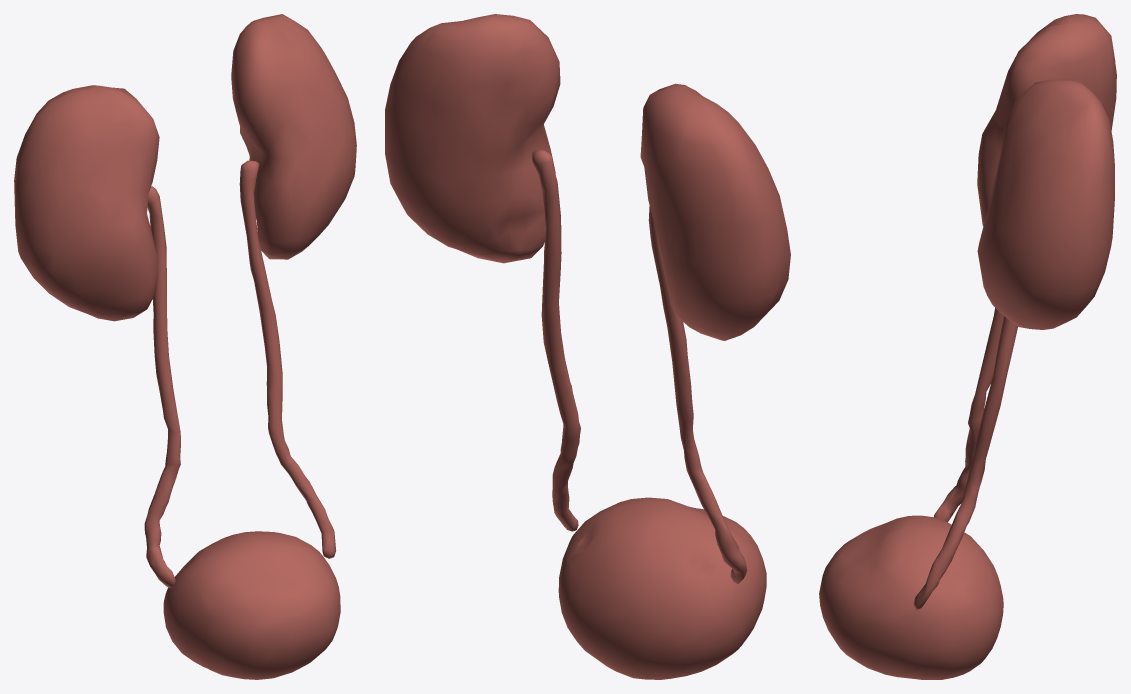
File: pediatric_child_5y_female.urinary.LOD0.glb
3 renders of one model, left to right at view 1: azimuth 30°, elevation 25°; view 2: azimuth 150°, elevation 25°; view 3: azimuth 270°, elevation 25°, orthographic. The views are drawn at different scales.
Visible parts, largest first — view 1: PEDIATRIC.CHILD_5Y.FEMALE.URINARY.KIDNEY_CORTEX.R, PEDIATRIC.CHILD_5Y.FEMALE.URINARY.KIDNEY_CORTEX.L, PEDIATRIC.CHILD_5Y.FEMALE.URINARY.URINARY_BLADDER_WALL, PEDIATRIC.CHILD_5Y.FEMALE.URINARY.URETER.L, PEDIATRIC.CHILD_5Y.FEMALE.URINARY.URETER.R; view 2: PEDIATRIC.CHILD_5Y.FEMALE.URINARY.KIDNEY_CORTEX.L, PEDIATRIC.CHILD_5Y.FEMALE.URINARY.URINARY_BLADDER_WALL, PEDIATRIC.CHILD_5Y.FEMALE.URINARY.KIDNEY_CORTEX.R, PEDIATRIC.CHILD_5Y.FEMALE.URINARY.URETER.L, PEDIATRIC.CHILD_5Y.FEMALE.URINARY.URETER.R; view 3: PEDIATRIC.CHILD_5Y.FEMALE.URINARY.KIDNEY_CORTEX.L, PEDIATRIC.CHILD_5Y.FEMALE.URINARY.URINARY_BLADDER_WALL, PEDIATRIC.CHILD_5Y.FEMALE.URINARY.KIDNEY_CORTEX.R, PEDIATRIC.CHILD_5Y.FEMALE.URINARY.URETER.L, PEDIATRIC.CHILD_5Y.FEMALE.URINARY.URETER.R.
Part boxes in pixels (<box>): PEDIATRIC.CHILD_5Y.FEMALE.URINARY.KIDNEY_CORTEX.R: <box>14,85,159,321</box>; PEDIATRIC.CHILD_5Y.FEMALE.URINARY.KIDNEY_CORTEX.L: <box>231,14,356,259</box>; PEDIATRIC.CHILD_5Y.FEMALE.URINARY.URINARY_BLADDER_WALL: <box>163,531,340,679</box>; PEDIATRIC.CHILD_5Y.FEMALE.URINARY.URETER.L: <box>239,160,336,558</box>; PEDIATRIC.CHILD_5Y.FEMALE.URINARY.URETER.R: <box>144,186,180,587</box>; PEDIATRIC.CHILD_5Y.FEMALE.URINARY.KIDNEY_CORTEX.L: <box>385,14,560,263</box>; PEDIATRIC.CHILD_5Y.FEMALE.URINARY.URINARY_BLADDER_WALL: <box>558,497,766,679</box>; PEDIATRIC.CHILD_5Y.FEMALE.URINARY.KIDNEY_CORTEX.R: <box>640,83,790,340</box>; PEDIATRIC.CHILD_5Y.FEMALE.URINARY.URETER.L: <box>532,149,580,531</box>; PEDIATRIC.CHILD_5Y.FEMALE.URINARY.URETER.R: <box>648,206,747,583</box>; PEDIATRIC.CHILD_5Y.FEMALE.URINARY.KIDNEY_CORTEX.L: <box>977,79,1114,329</box>; PEDIATRIC.CHILD_5Y.FEMALE.URINARY.URINARY_BLADDER_WALL: <box>819,515,1003,679</box>; PEDIATRIC.CHILD_5Y.FEMALE.URINARY.KIDNEY_CORTEX.R: <box>977,14,1116,226</box>; PEDIATRIC.CHILD_5Y.FEMALE.URINARY.URETER.L: <box>913,316,1017,609</box>; PEDIATRIC.CHILD_5Y.FEMALE.URINARY.URETER.R: <box>934,308,1003,522</box>.
Size of the model in its own units: 0.1233 by 0.2081 by 0.0894.
